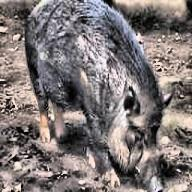boar: (23, 0, 173, 190)
